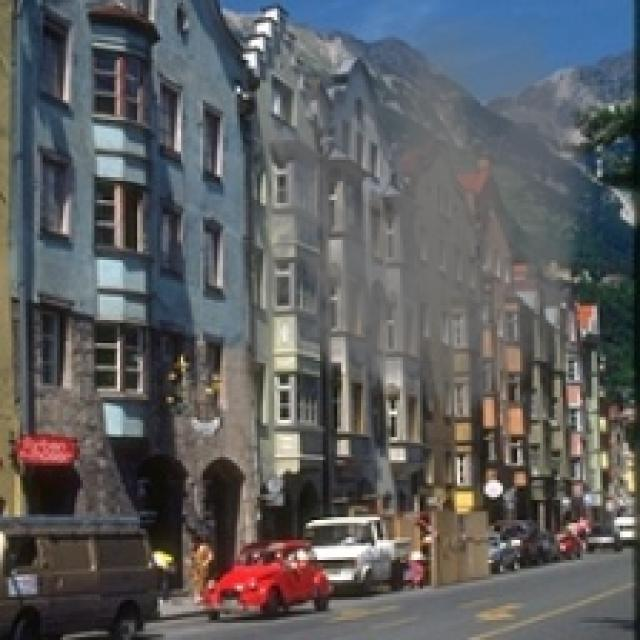Smoke: (240, 17, 597, 440)
